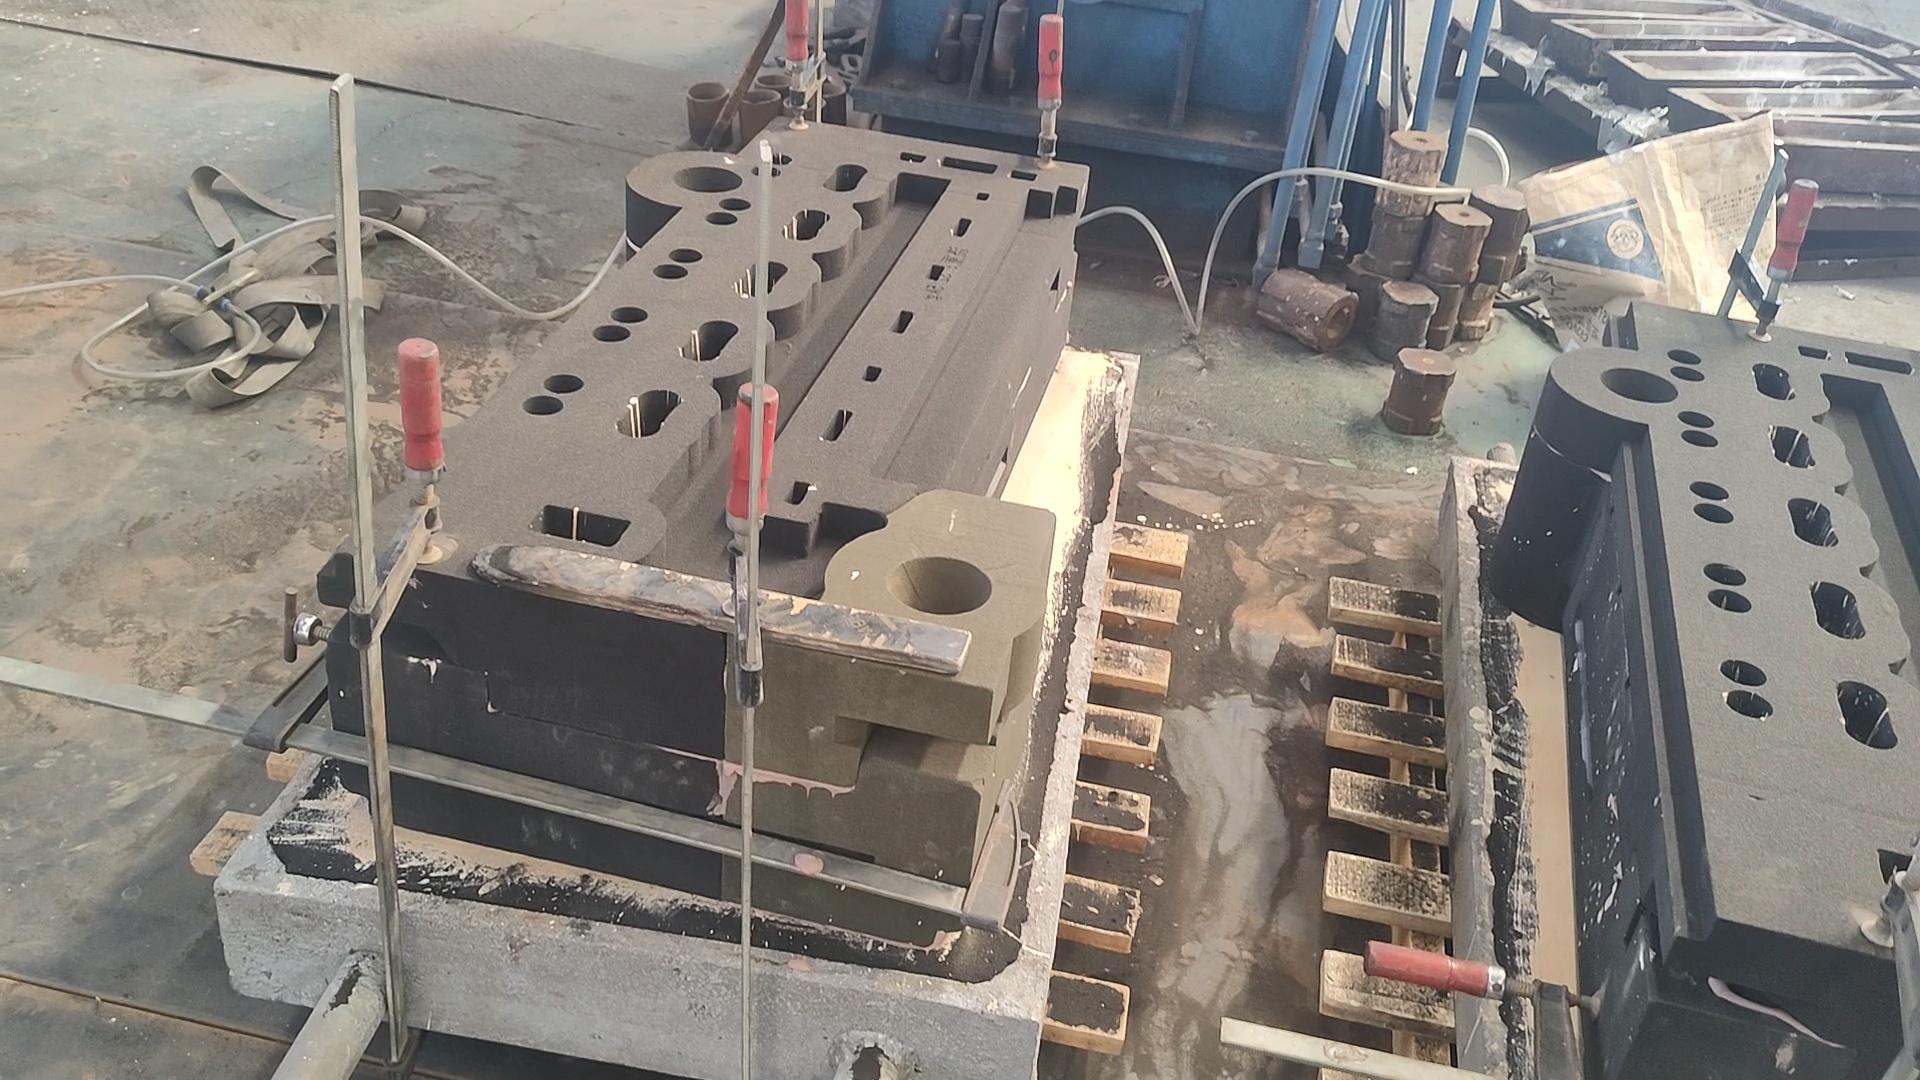pouring hole: (886, 556, 992, 615), (1600, 367, 1679, 404), (673, 166, 742, 193), (688, 80, 728, 100), (782, 94, 828, 109), (736, 90, 779, 104), (754, 73, 794, 88), (804, 80, 844, 96)
